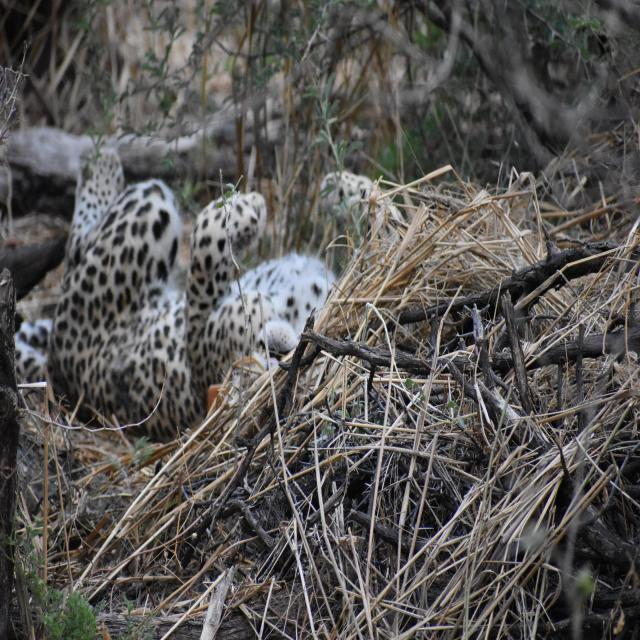Leopard: (16, 150, 359, 447)
